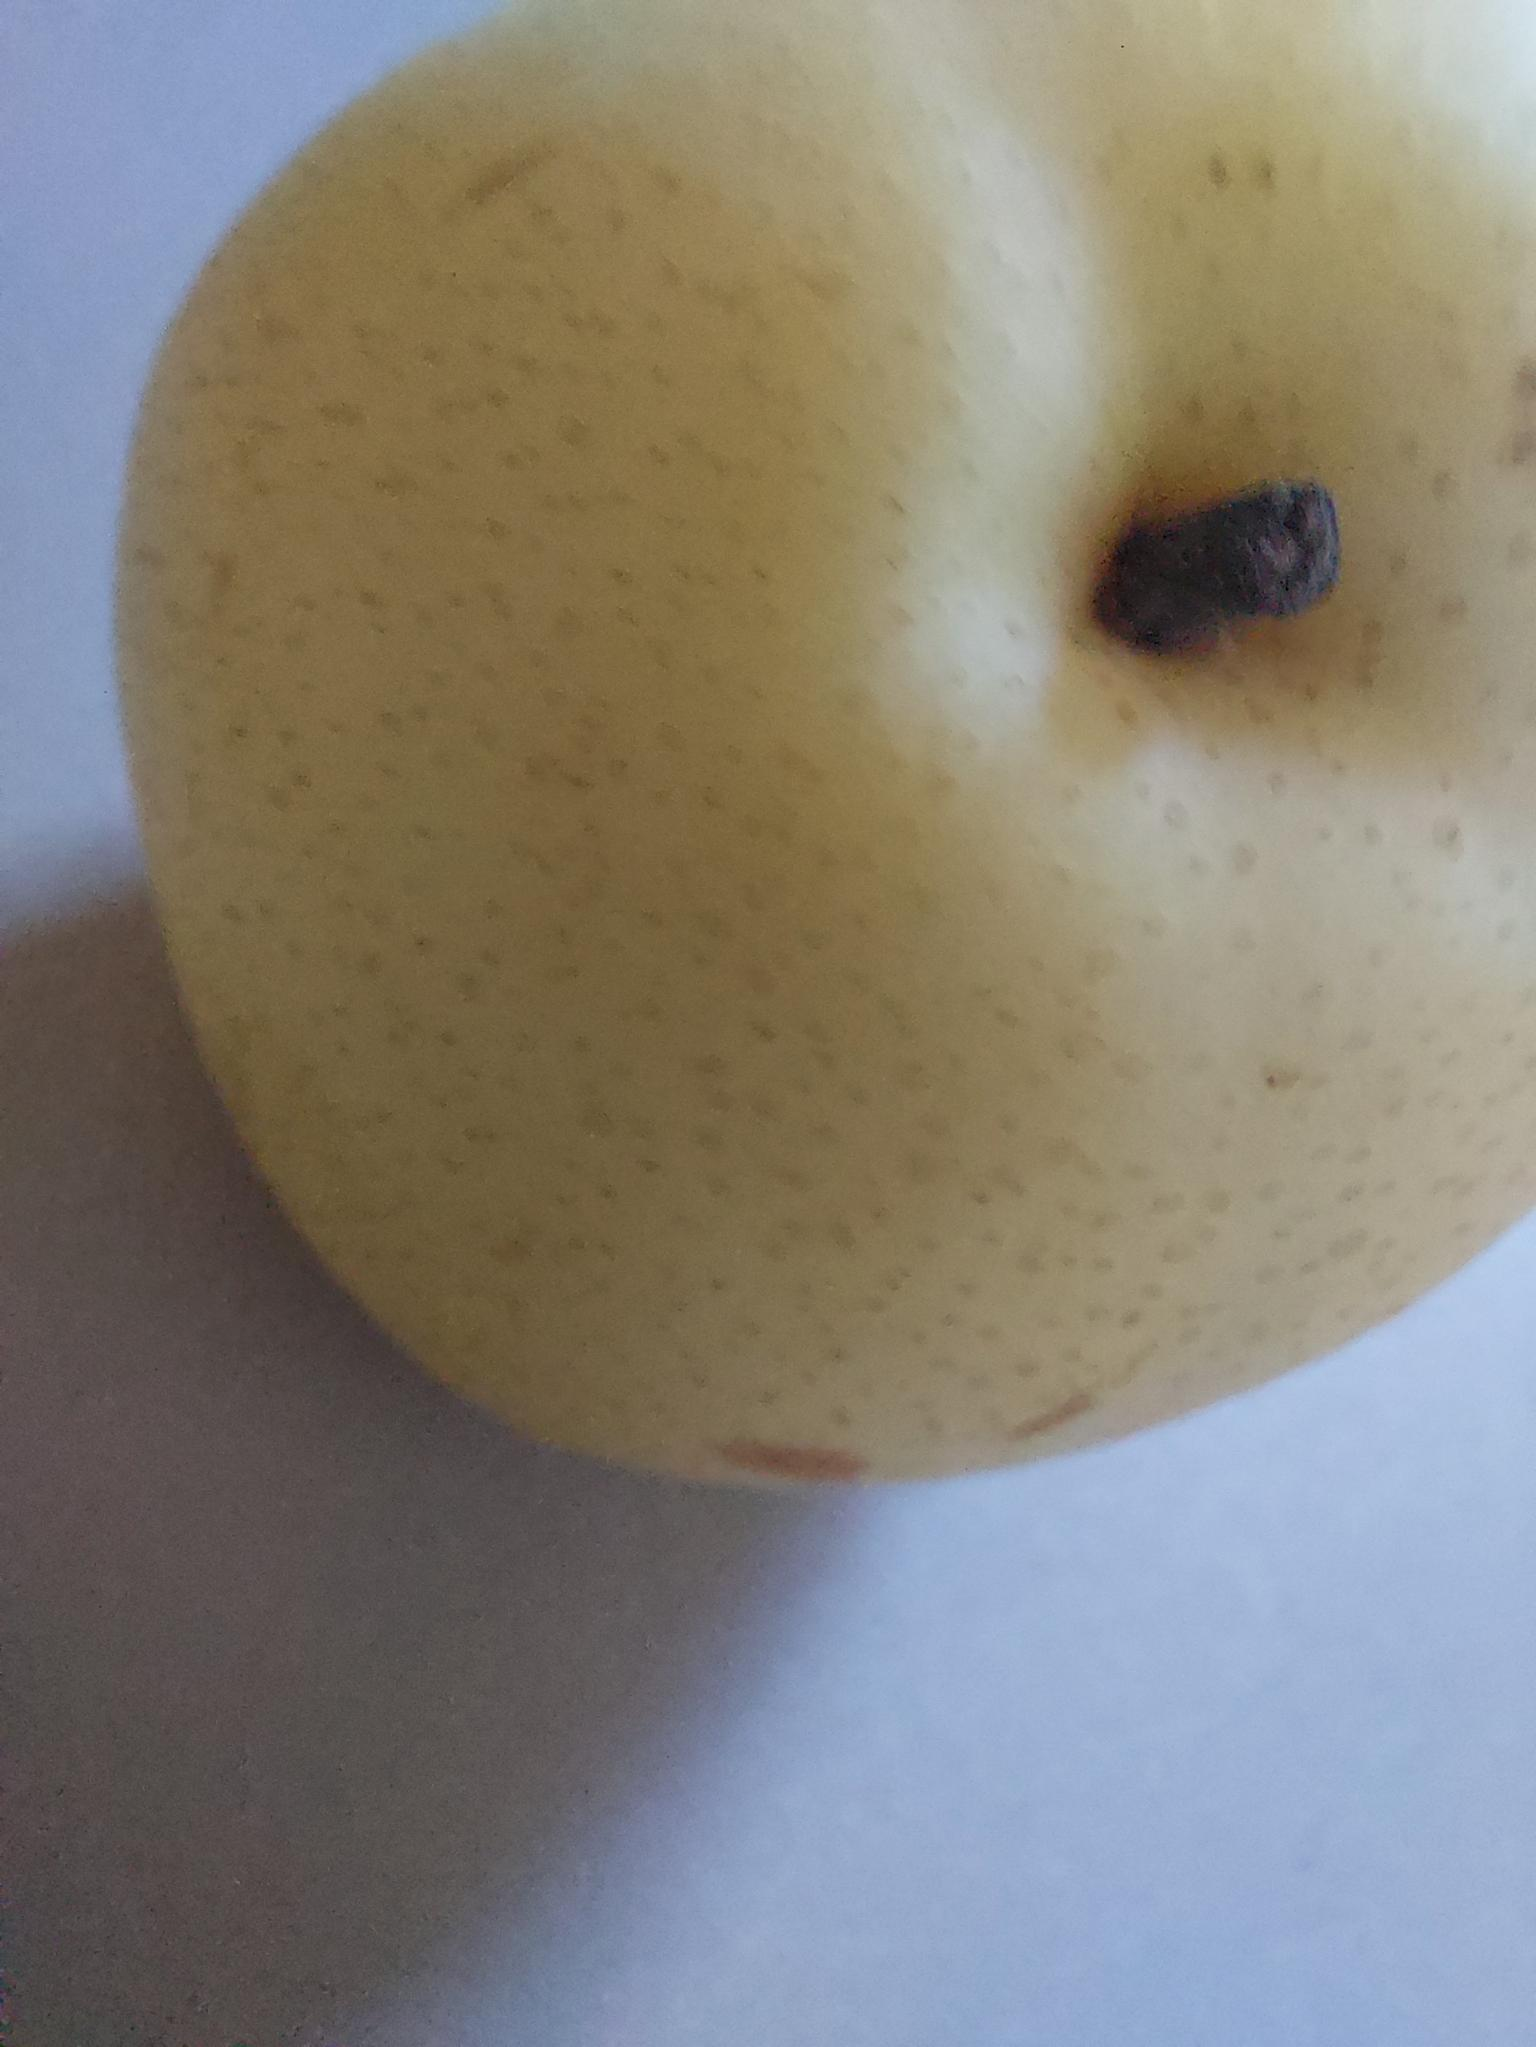Good Pear: (100, 2, 1536, 1500)
